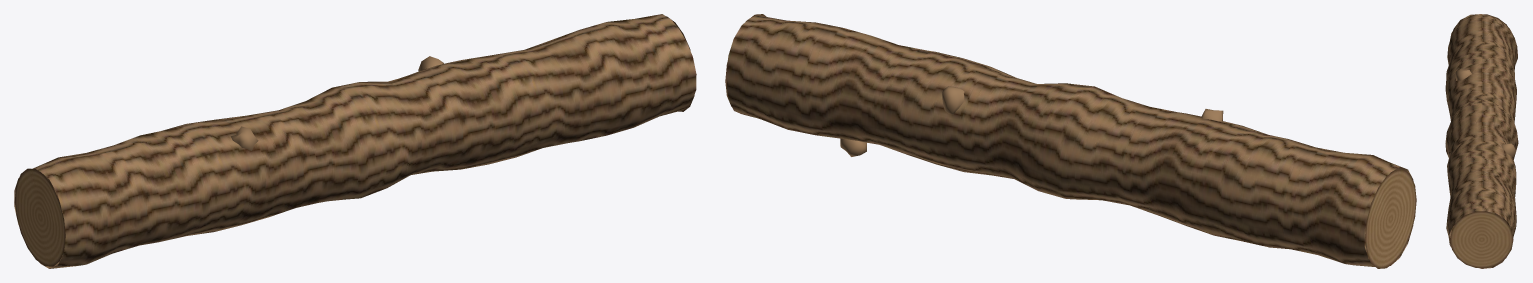
File: prop_log.glb
The picture shows the model from 3 angles, left to right: view 1: azimuth 30°, elevation 25°; view 2: azimuth 150°, elevation 25°; view 3: azimuth 270°, elevation 25°; orthographic projection. The views are drawn at different scales.
Visible parts, largest first — view 1: log, logend; view 2: log, logend; view 3: log, logend.
Boxes of the visible parts, left/top/right/bottom form: log: left=14, top=14, right=696, bottom=268; logend: left=15, top=16, right=694, bottom=266; log: left=726, top=15, right=1413, bottom=266; logend: left=725, top=14, right=1416, bottom=268; log: left=1445, top=14, right=1518, bottom=268; logend: left=1450, top=14, right=1513, bottom=267.
Size of the model in its own units: 1 by 0.161 by 0.1571.
Materials: 2 (2 with a texture image).
